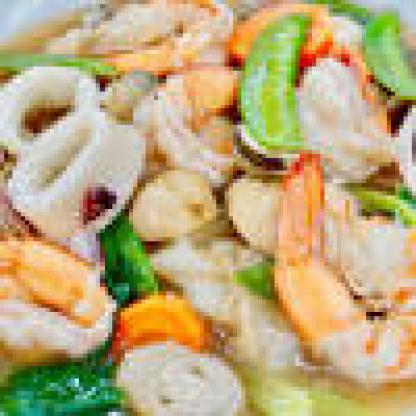Laadna: (0, 0, 412, 412)
